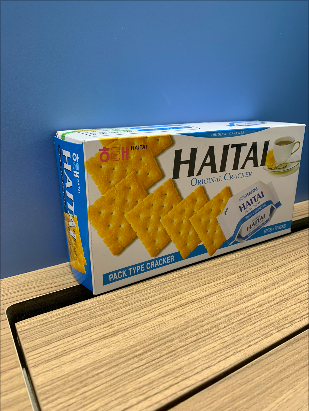Crackers_200-299g: (86, 140, 297, 242)
